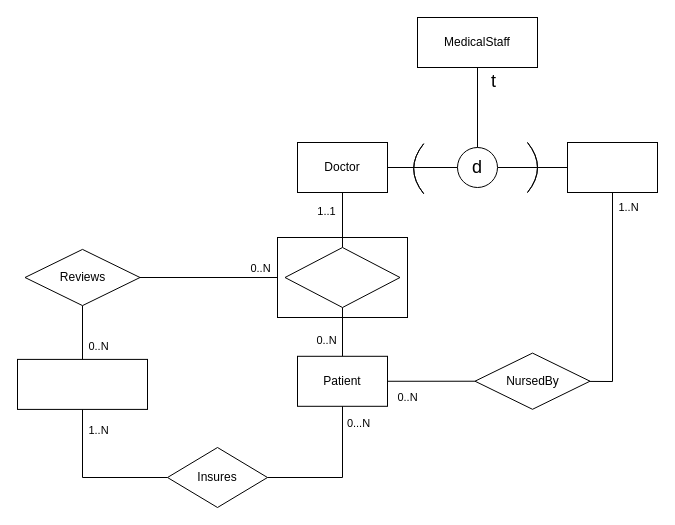
This 675x525 diagram has some shape labels left out. Each missing label, with the centre of its shape:
"InsuranceCompany" goes at (82,383).
"Nurse" goes at (612,167).
"Treatment" goes at (342,277).
